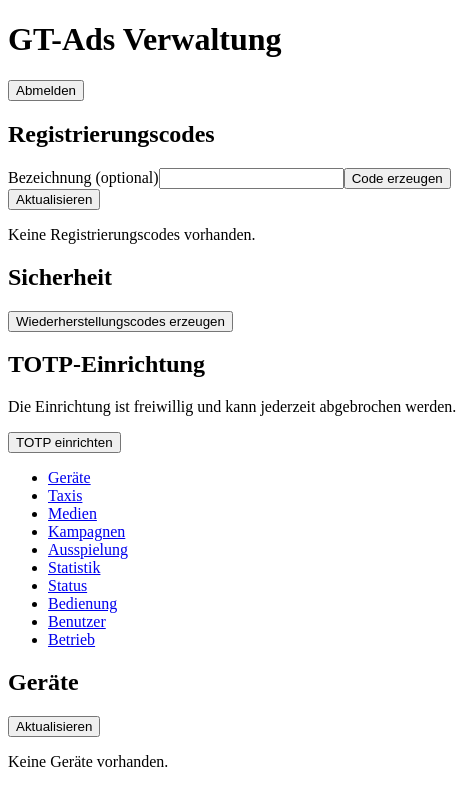
Test case: CX-059 Benutzerliste › zeigt als bestätigter Admin Kennung, Rolle und Status ohne Geheimnisse und nutzt genau den lesenden Abruf
Later steps or results of the test are not shown.
Expected: the heading "Geräte" is shown, 8,669 -> 79,695
Step 1. Click the link "Benutzer" → (77, 622), box 48,613 -> 106,630
(page scrolled)
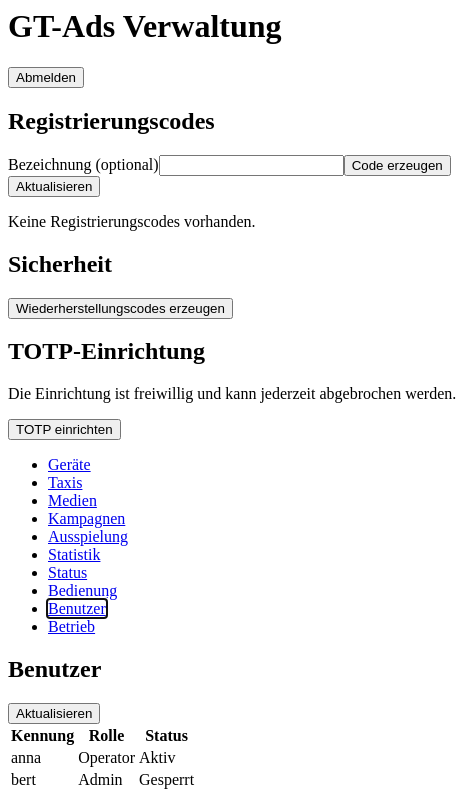
Now the heading "Benutzer" is shown, box 8,656 -> 101,682
Now the text "anna" is shown, box 10,748 -> 75,768
Now the text "bert" is shown, box 10,770 -> 75,790
